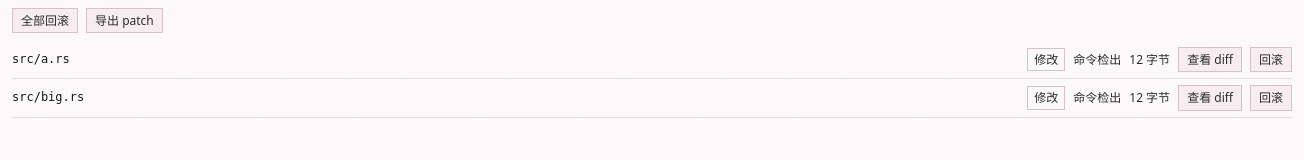
Test: FileChangesPanel 交互(批次 4c) › 「全部回滚」:确认后调接口、显示逐项汇总(含跳过原因)并重拉清单
Step 1. Click the button "全部回滚" → (45, 21), box [12, 8, 78, 33]
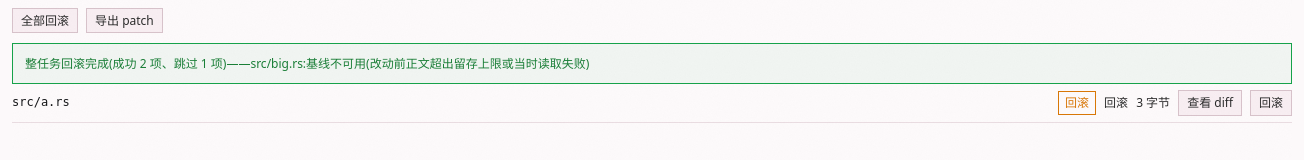
Expected: the text "整任务回滚完成" is shown, [25, 55, 589, 72]
Expected: the text "成功 2 项" is shown, [25, 55, 589, 72]
Expected: the text "跳过 1 项" is shown, [25, 55, 589, 72]
